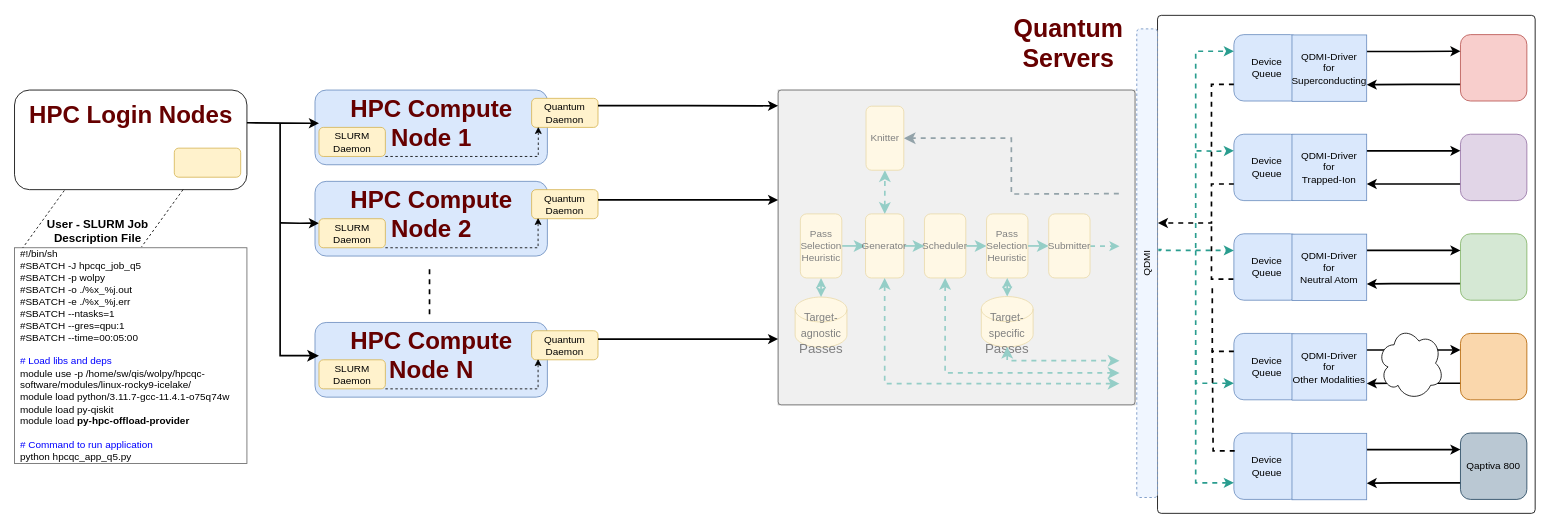
Image size: 1550x529. Some labels were removed from this diagram. Each missing label, with the centre of its shape:
LRZ IT: (1493,167)
LRZ NA: (1493,266)
LRZ SC: (1493,67)
QDMI-Driver for Simulator Backends: (1329,466)
QRM: (956,247)
SLURM Controller: (207,162)
WMI SC: (1493,366)
